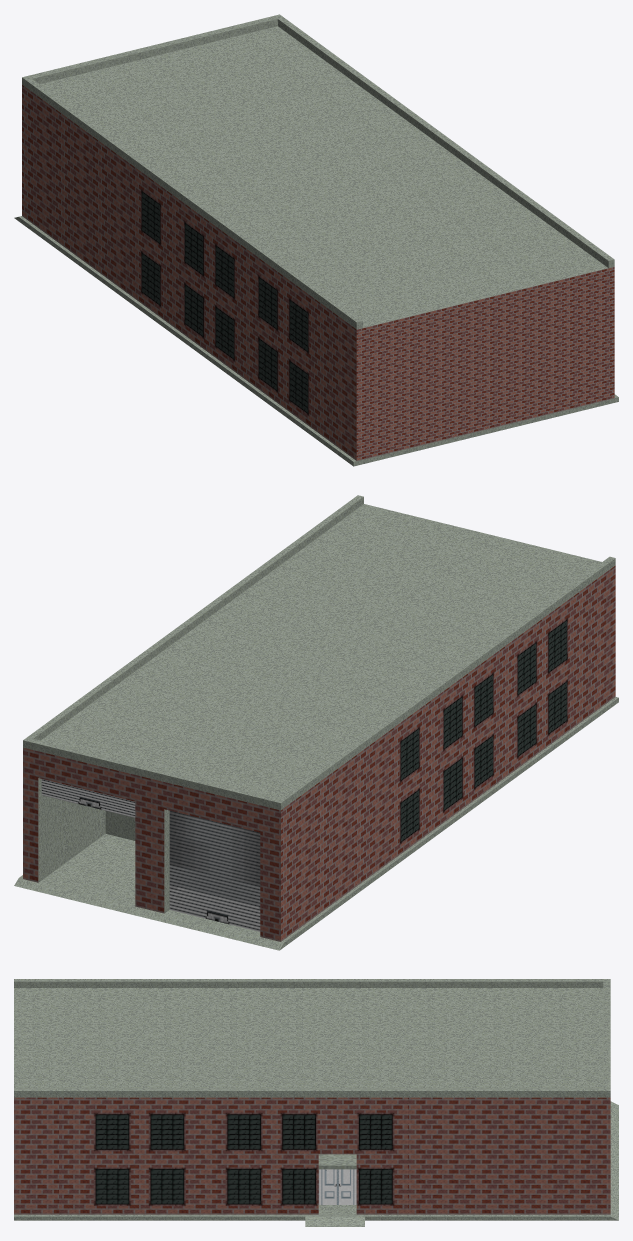
The model's file is BLOCKYGON_BASE GARAGE.fbx.
3 views of the same model, one above another, from view 1: azimuth 30°, elevation 25°; view 2: azimuth 150°, elevation 25°; view 3: azimuth 270°, elevation 25° (orthographic). The views are drawn at different scales.
Visible parts, largest first — view 1: BLOCKYGON_BASE_GARAGE; view 2: BLOCKYGON_BASE_GARAGE; view 3: BLOCKYGON_BASE_GARAGE.
Part boxes in pixels (x1,y1,x2,y2): BLOCKYGON_BASE_GARAGE: (14,14,618,466); BLOCKYGON_BASE_GARAGE: (14,495,618,950); BLOCKYGON_BASE_GARAGE: (14,979,618,1226).
Size of the model in its own units: 1790 by 863 by 3674.
5 materials, 5 textured.
